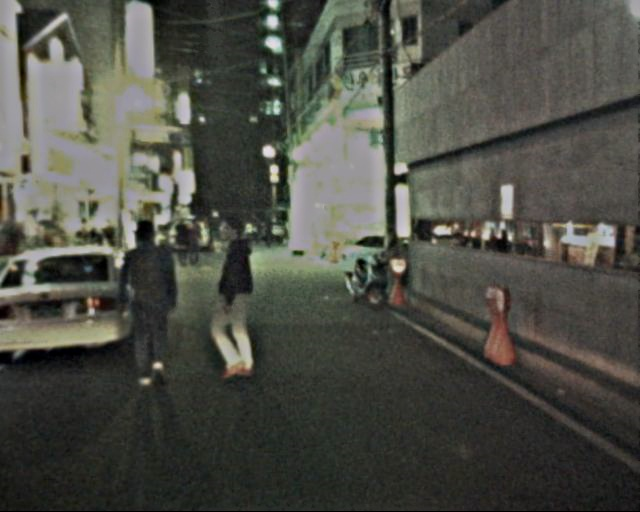person: (113, 222, 188, 388), (205, 220, 267, 379), (177, 213, 208, 266)
